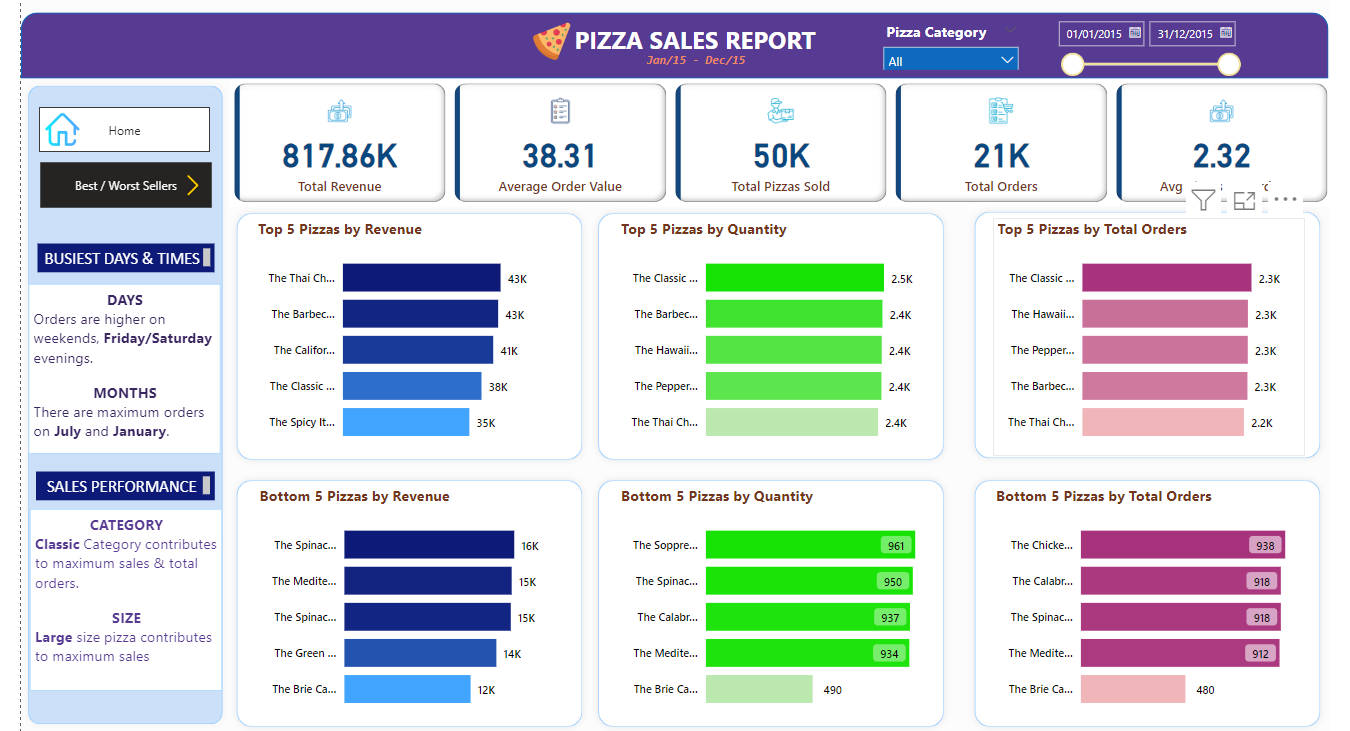

Layout of this report page (visuals, bound fields, positions):
{"tool":"powerbi","page":{"name":"Best / Worst Sellers","canvas":[1500,820],"ordinal":1},"visuals":[{"type":"cardVisual","fields":{"Data":["pizza_sales.Total Revenue","pizza_sales.Average Order Value","pizza_sales.Total Pizzas Sold","pizza_sales.Total Orders","pizza_sales.Avg Pizzas Per Order"]},"box":[231.5,87.5,1229.1,142.9],"z":0},{"type":"shape","box":[0,87.5,232.2,725.3],"z":1000},{"type":"textbox","box":[18.3,271.7,196.7,31.7],"z":2000},{"type":"shape","box":[0,14.3,1452.4,73.2],"z":3000},{"type":"textbox","box":[603.8,21.4,291.2,48.2],"z":4000},{"type":"textbox","box":[680.7,51.8,139.3,33.9],"z":5000},{"type":"image","box":[559.2,19.7,59,53.6],"z":6000},{"type":"shape","box":[231.5,230.5,400,290],"z":7000},{"type":"textbox","box":[8.3,316.7,213.3,188.3],"z":8000},{"type":"textbox","box":[16.7,525,198.3,31.7],"z":9000},{"type":"textbox","box":[10,566.7,213.3,201.7],"z":10000},{"type":"slicer","fields":{"Values":["pizza_sales.pizza_category"]},"box":[948.6,19.7,169.7,59],"z":11000},{"type":"slicer","fields":{"Values":["pizza_sales.order_date"]},"box":[1140.7,14.3,223.3,80.4],"z":12000},{"type":"shape","box":[634,230,400,290],"z":13000},{"type":"shape","box":[1052,228,400,290],"z":14000},{"type":"shape","box":[232,526,400,290],"z":15000},{"type":"shape","box":[634,526,400,290],"z":16000},{"type":"shape","box":[1052,526,400,290],"z":17000},{"type":"barChart","title":"Top 5 Pizzas by Revenue","fields":{"Y":["pizza_sales.Total Revenue"],"Category":["pizza_sales.pizza_name"]},"box":[258,244,346,264],"z":18000},{"type":"barChart","title":"Bottom 5 Pizzas by Revenue","fields":{"Y":["pizza_sales.Total Revenue"],"Category":["pizza_sales.pizza_name"]},"box":[260,540,346,264],"z":19000},{"type":"barChart","title":"Top 5 Pizzas by Quantity","fields":{"Category":["pizza_sales.pizza_name"],"Y":["pizza_sales.Total Pizzas Sold"]},"box":[662,244,346,264],"z":20000},{"type":"barChart","title":"Bottom 5 Pizzas by Quantity","fields":{"Category":["pizza_sales.pizza_name"],"Y":["pizza_sales.Total Pizzas Sold"]},"box":[662,540,346,264],"z":21000},{"type":"barChart","title":"Top 5 Pizzas by Total Orders","fields":{"Category":["pizza_sales.pizza_name"],"Y":["pizza_sales.Total Orders"]},"box":[1080,244,346,264],"z":22000},{"type":"barChart","title":"Bottom 5 Pizzas by Total Orders","fields":{"Category":["pizza_sales.pizza_name"],"Y":["pizza_sales.Total Orders"]},"box":[1078,540,346,264],"z":23000},{"type":"pageNavigator","box":[21.7,181.7,190,50],"z":24000},{"type":"pageNavigator","box":[20,120,190,50],"z":25000},{"type":"image","box":[21.7,120,48.3,50],"z":25001},{"type":"image","box":[166.7,190,48.3,33.3],"z":25002}]}

Visuals, with their boxes in screenshot pixels (x1, y1, x2, y2), scaled from the page's 1500x820 canvas onto the 1350x731 screenshot:
cardVisual - pizza_sales.Total Revenue x pizza_sales.Average Order Value: locate(208, 78, 1315, 205)
shape: locate(0, 78, 209, 725)
textbox: locate(16, 242, 194, 270)
shape: locate(0, 13, 1307, 78)
textbox: locate(543, 19, 806, 62)
textbox: locate(613, 46, 738, 76)
image: locate(503, 18, 556, 65)
shape: locate(208, 205, 568, 464)
textbox: locate(7, 282, 199, 450)
textbox: locate(15, 468, 194, 496)
textbox: locate(9, 505, 201, 685)
slicer - pizza_sales.pizza_category: locate(854, 18, 1006, 70)
slicer - pizza_sales.order_date: locate(1027, 13, 1228, 84)
shape: locate(571, 205, 931, 464)
shape: locate(947, 203, 1307, 462)
shape: locate(209, 469, 569, 727)
shape: locate(571, 469, 931, 727)
shape: locate(947, 469, 1307, 727)
"Top 5 Pizzas by Revenue" barChart: locate(232, 218, 544, 453)
"Bottom 5 Pizzas by Revenue" barChart: locate(234, 481, 545, 717)
"Top 5 Pizzas by Quantity" barChart: locate(596, 218, 907, 453)
"Bottom 5 Pizzas by Quantity" barChart: locate(596, 481, 907, 717)
"Top 5 Pizzas by Total Orders" barChart: locate(972, 218, 1283, 453)
"Bottom 5 Pizzas by Total Orders" barChart: locate(970, 481, 1282, 717)
pageNavigator: locate(20, 162, 191, 207)
pageNavigator: locate(18, 107, 189, 152)
image: locate(20, 107, 63, 152)
image: locate(150, 169, 194, 199)
